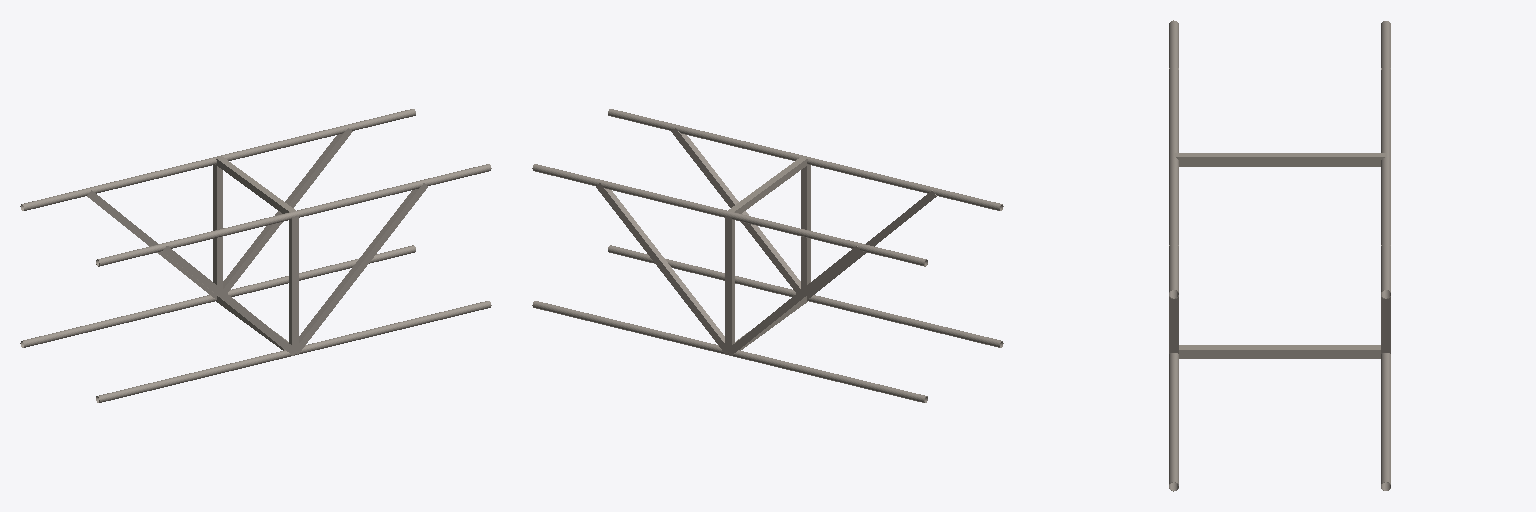
URDF robot description (evn):
<?xml version="1.0" encoding="utf-8"?>
<!-- This URDF was automatically created by SolidWorks to URDF Exporter! Originally created by [author] ([email redacted]) 
     Commit Version: 1.6.0-4-g7f85cfe  Build Version: 1.6.7995.38578
     For more information, please see http://wiki.ros.org/sw_urdf_exporter -->
<robot
  name="evn">
  <link
    name="base_link">
    <inertial>
      <origin
        xyz="2.61943244872498E-16 2.77555756156289E-17 0.200000000000104"
        rpy="0 0 0" />
      <mass
        value="6.15206079988372" />
      <inertia
        ixx="0.0546164623172361"
        ixy="2.50590502719118E-17"
        ixz="-2.16262276711115E-17"
        iyy="0.325990172074171"
        iyz="5.06213236255422E-19"
        izz="0.294340599314401" />
    </inertial>
    <visual>
      <origin
        xyz="0 0 0"
        rpy="0 0 0" />
      <geometry>
        <mesh
          filename="../meshes/evn.STL" />
      </geometry>
      <material
        name="">
        <color
          rgba="0.647058823529412 0.619607843137255 0.588235294117647 1" />
      </material>
    </visual>
    <collision>
      <origin
        xyz="0 0 0"
        rpy="0 0 0" />
      <geometry>
        <mesh
          filename="../meshes/evn.STL" />
      </geometry>
    </collision>
  </link>
</robot>

--- Render facts (derived) ---
Views: 3 orthographic renders of the robot side by side, from view 1: azimuth 30°, elevation 25°; view 2: azimuth 150°, elevation 25°; view 3: azimuth 270°, elevation 25°.
Model evn with 1 links and 0 joints (none), rooted at base_link, posed every joint at zero.
Visible links, largest first — view 1: base_link; view 2: base_link; view 3: base_link.
Link boxes in pixels (x1=…): base_link: x1=20, y1=109, x2=491, y2=402; base_link: x1=532, y1=109, x2=1003, y2=402; base_link: x1=1169, y1=20, x2=1390, y2=491.
Bounding box of the posed robot: 1.2 × 0.42 × 0.42 m (x, y, z).
Meshes: 1 distinct files referenced, 1 mesh visuals loaded (1 binary STL).